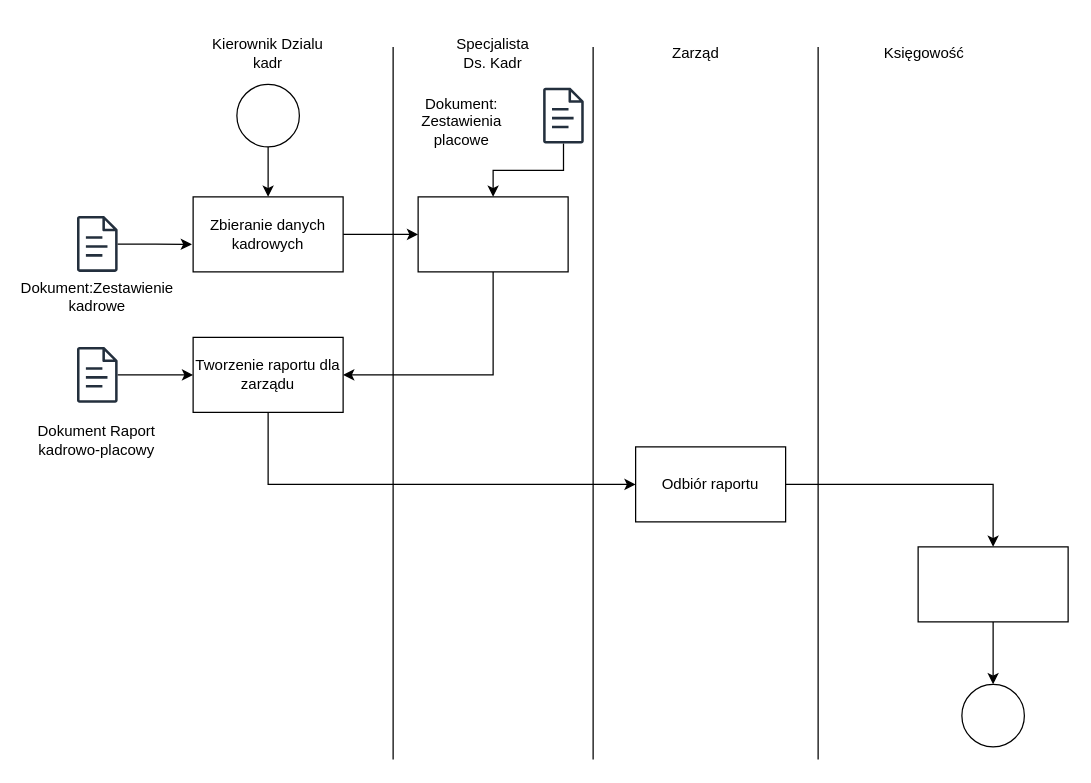
This 1091x783 diagram has some shape labels left out. The shapes that lost their labels are listed below. From the top down, each one's centre as x and y in pixels, then its label:
At [492,234]: "Zbieranie danych placowych".
At [992,584]: "Analiza danych finansowych".
